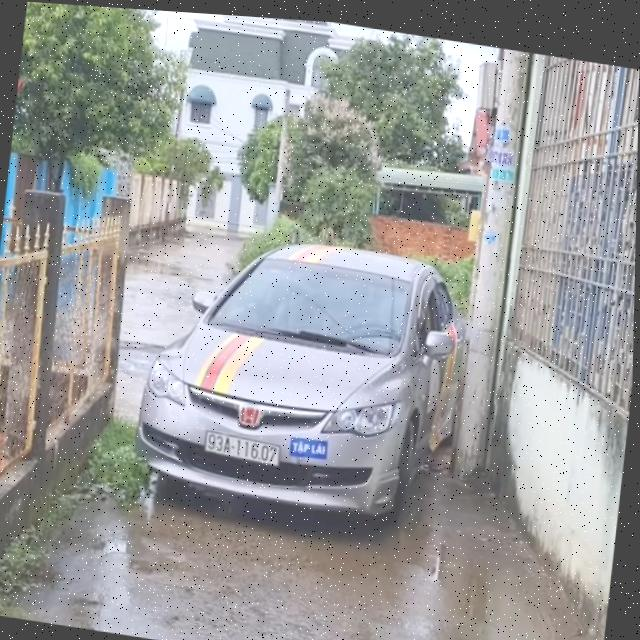car: (132, 210, 476, 544)
plate: (196, 424, 284, 470)
